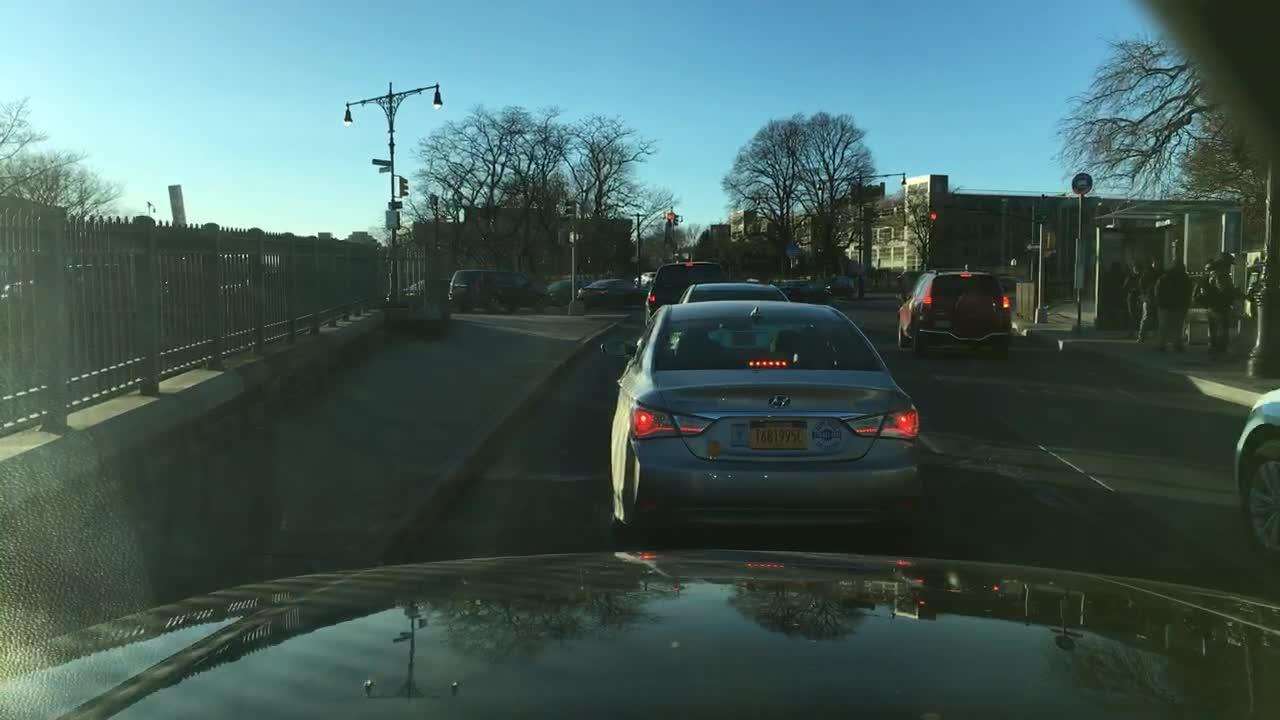Hyundai: (767, 391, 796, 413)
